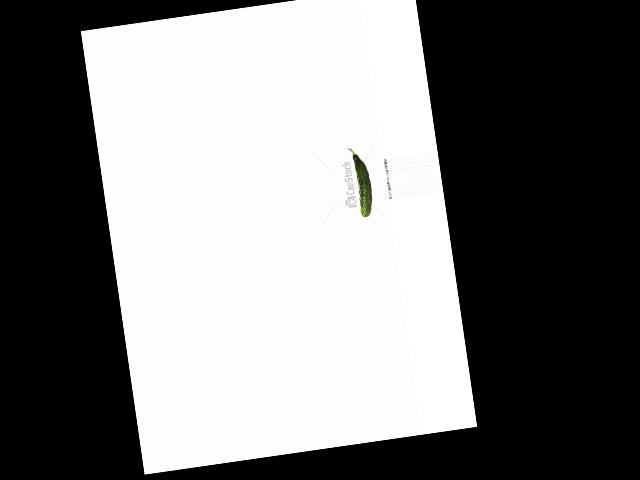cucumber: (348, 145, 375, 217)
